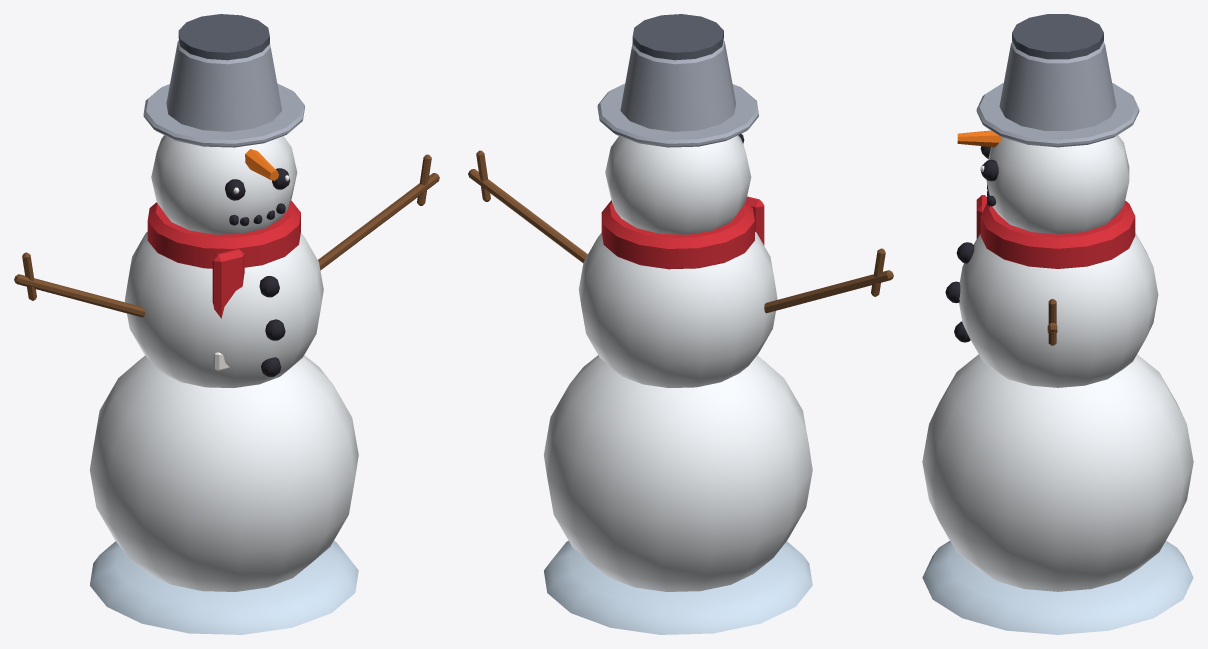
The model's file is vuena-prop-snowman-classic.glb.
3 renders of one model, left to right at view 1: azimuth 30°, elevation 25°; view 2: azimuth 150°, elevation 25°; view 3: azimuth 270°, elevation 25°, orthographic.
Visible parts, largest first — view 1: snowman_classic; view 2: snowman_classic; view 3: snowman_classic.
Boxes of the visible parts, bbox=[...] form: snowman_classic: bbox=[14, 14, 439, 634]; snowman_classic: bbox=[468, 14, 893, 634]; snowman_classic: bbox=[922, 14, 1193, 634].
Bounding box in the file's own units: 1.8 × 2.25 × 1.
1 material, 1 textured.
